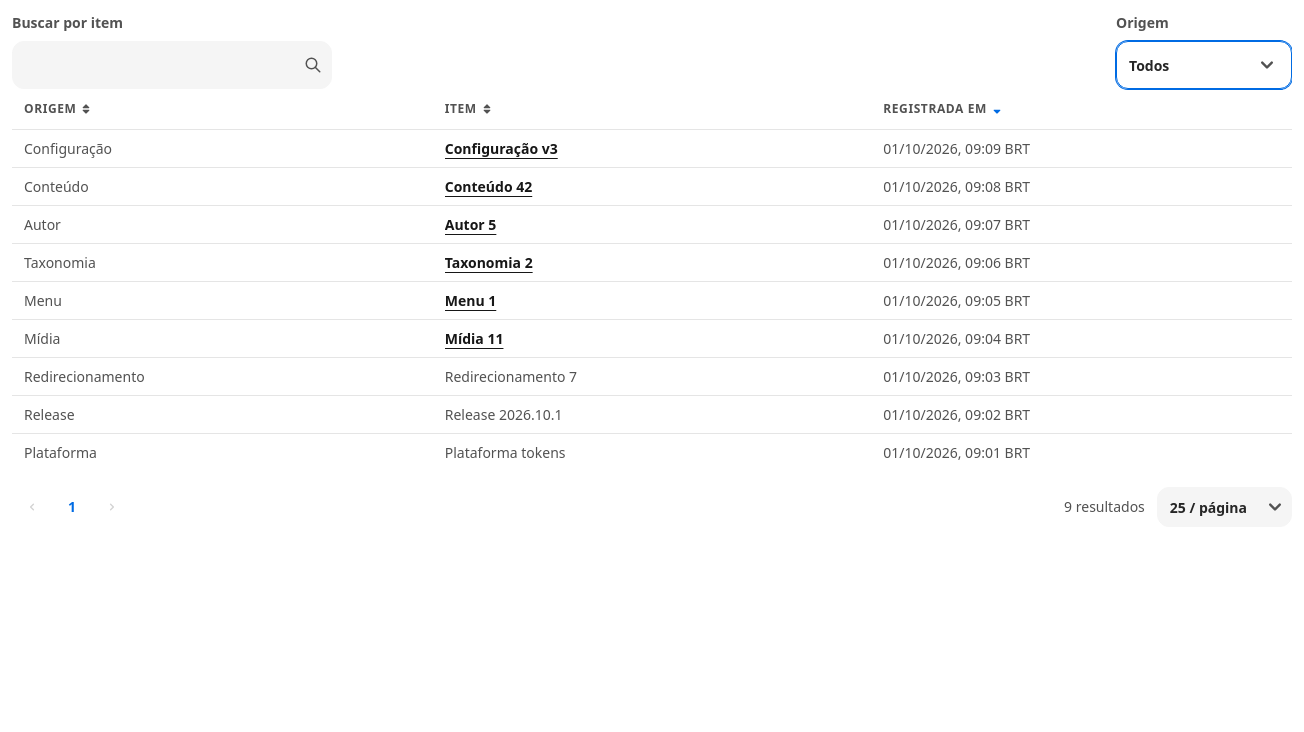
Scenario: busca, filtro, ordem e paginação (#365) › o filtro por origem vai para a URL; "Limpar filtros" volta tudo
The width and height of the screenshot is (1304, 732).
Press Arrowdown
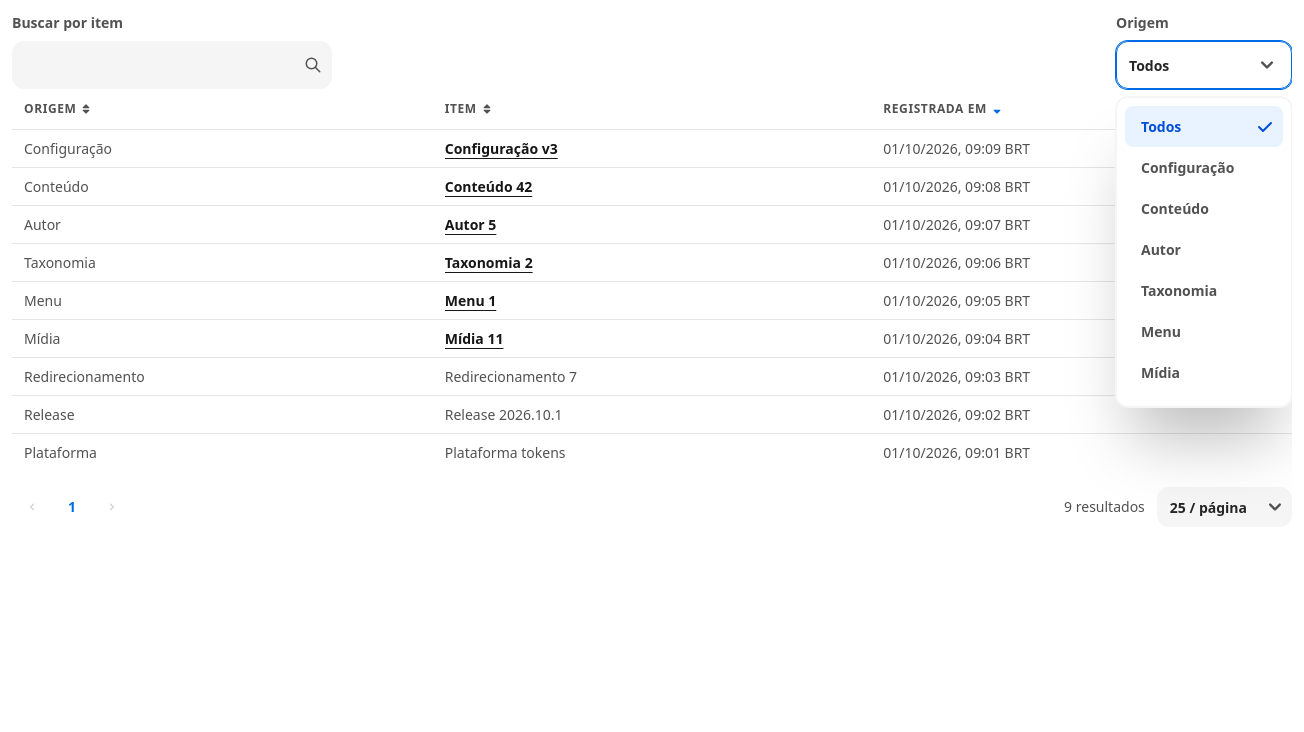
Click the option "Mídia": {"x": 1161, "y": 372} x1=1141 y1=363 x2=1180 y2=382
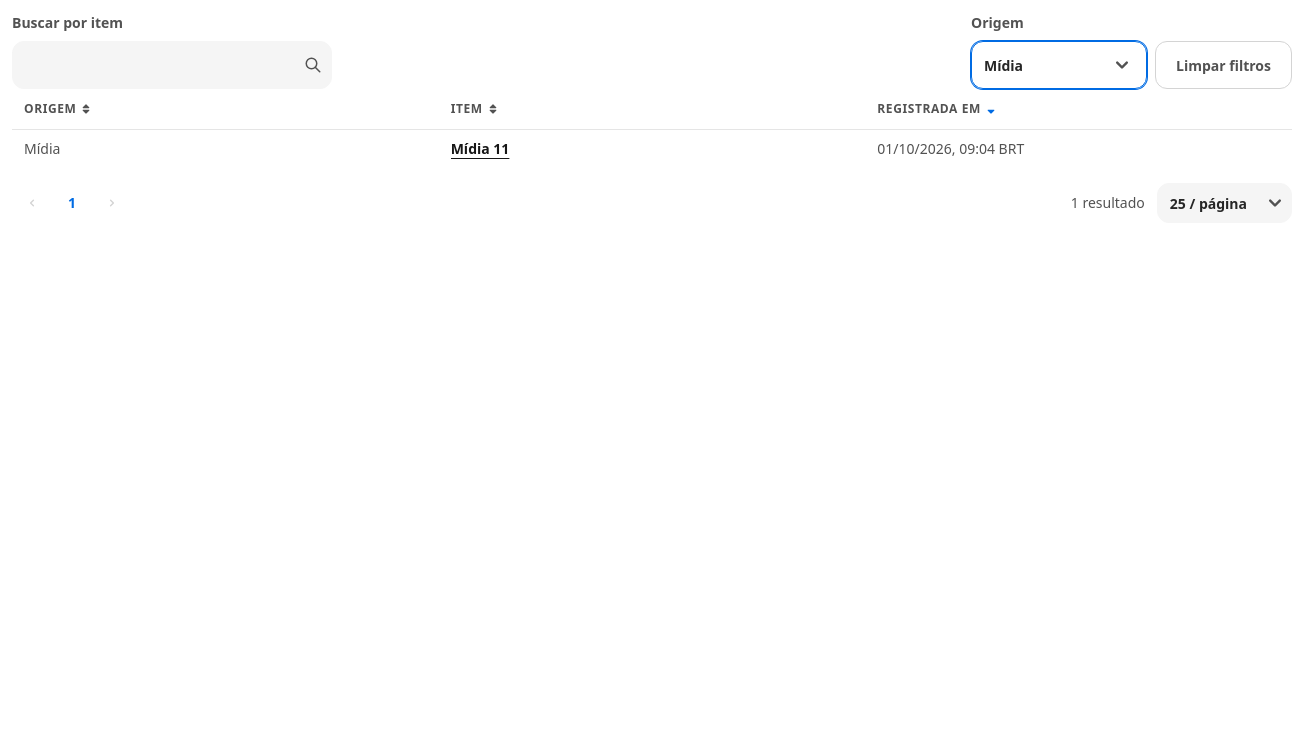
Click the button "Limpar filtros": {"x": 1224, "y": 65} x1=1155 y1=41 x2=1292 y2=89
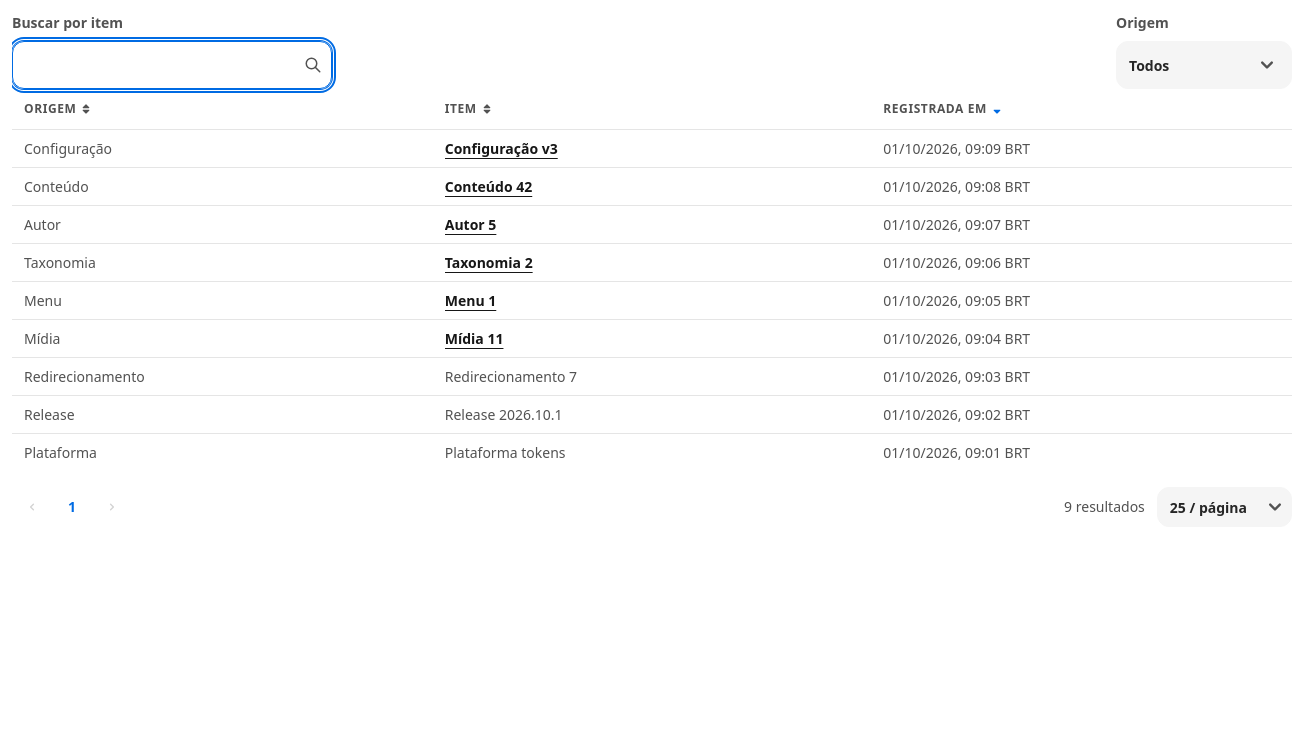
Check: the message reads "9 resultados", box x1=1064 y1=497 x2=1145 y2=516
